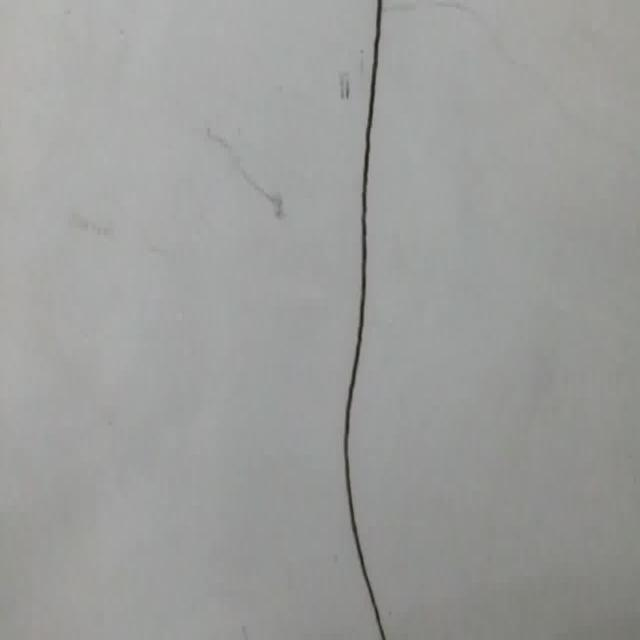Crack: (333, 10, 416, 640), (389, 0, 601, 115)
